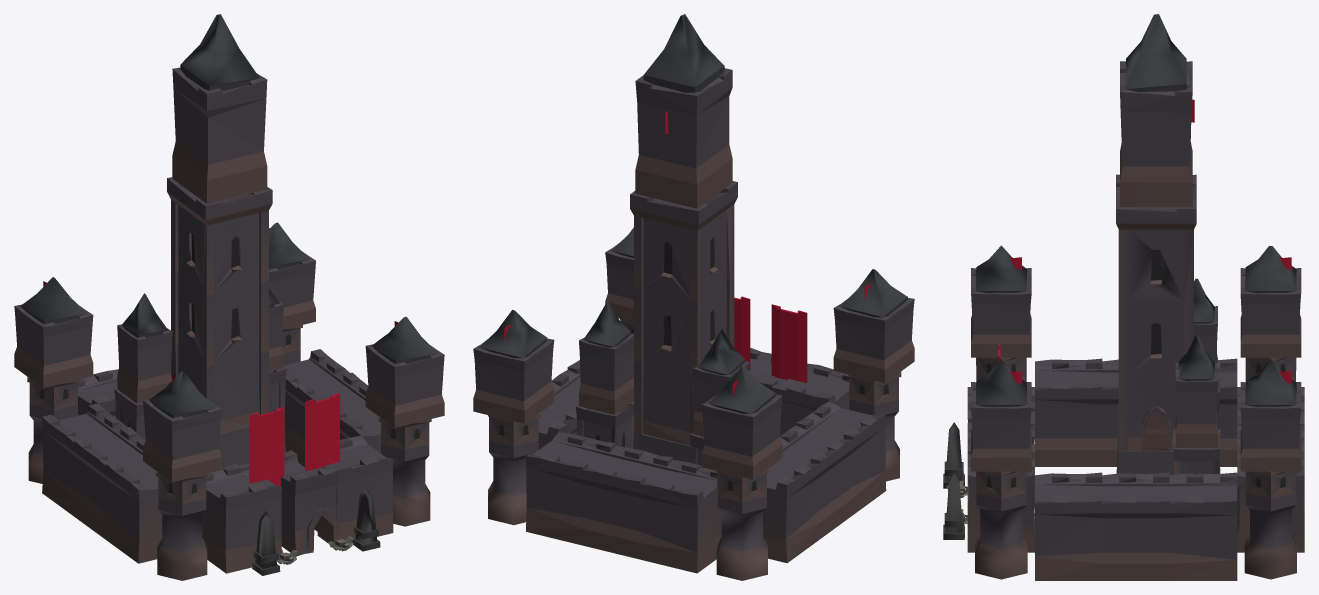
File: fortress_l3.glb
3 views of the same model, side by side, from view 1: azimuth 30°, elevation 25°; view 2: azimuth 150°, elevation 25°; view 3: azimuth 270°, elevation 25° (orthographic). The views are drawn at different scales.
Parts seen in each view (by area): view 1: fortress_l3; view 2: fortress_l3; view 3: fortress_l3.
Part boxes in pixels (left/top/right/bottom): fortress_l3: left=14, top=14, right=444, bottom=580; fortress_l3: left=473, top=14, right=914, bottom=580; fortress_l3: left=943, top=14, right=1304, bottom=580.
Size of the model in its own units: 7.37 by 11.95 by 7.9.
